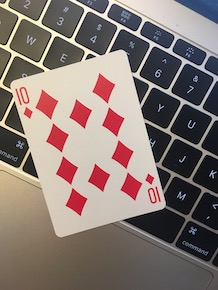TenOfDiamonds: (9, 46, 166, 239)
